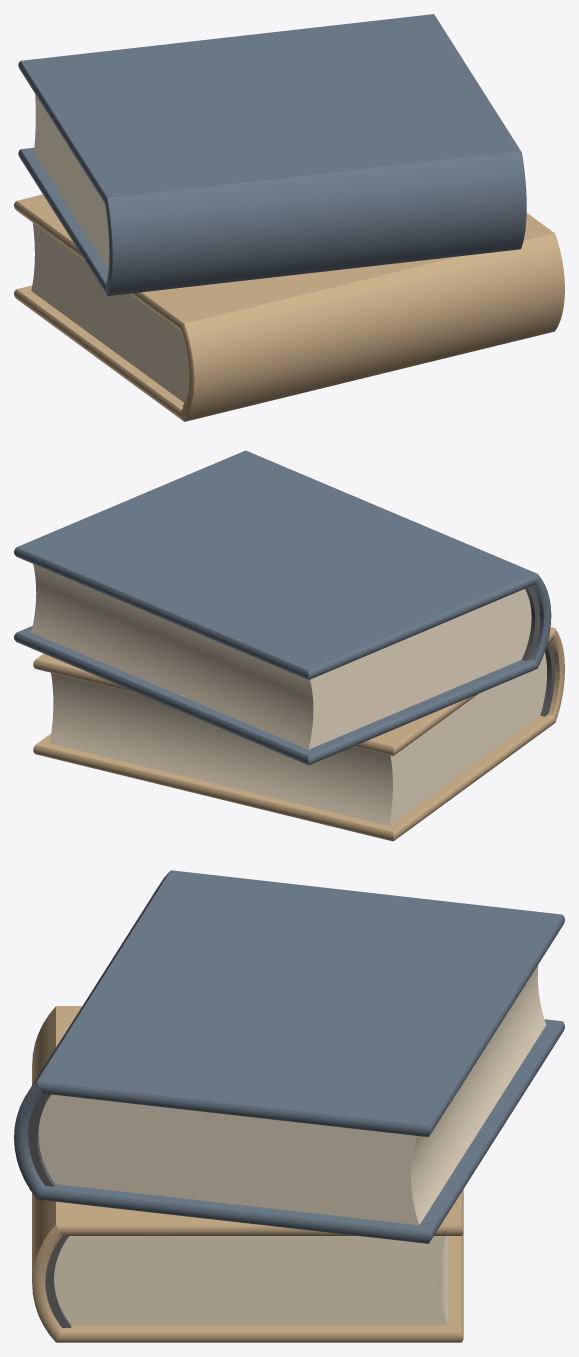
The picture shows the model from 3 angles, top to bottom: view 1: azimuth 30°, elevation 25°; view 2: azimuth 150°, elevation 25°; view 3: azimuth 270°, elevation 25°; orthographic projection. The views are drawn at different scales.
Visible parts, largest first — view 1: Mesh2_book_1_1_Model; view 2: Mesh2_book_1_1_Model; view 3: Mesh2_book_1_1_Model.
Part boxes in pixels (x1,y1,x2,y2): Mesh2_book_1_1_Model: (14, 14, 564, 421); Mesh2_book_1_1_Model: (14, 450, 564, 841); Mesh2_book_1_1_Model: (14, 870, 564, 1342).
Size of the model in its own units: 1 by 0.427 by 0.8996.
